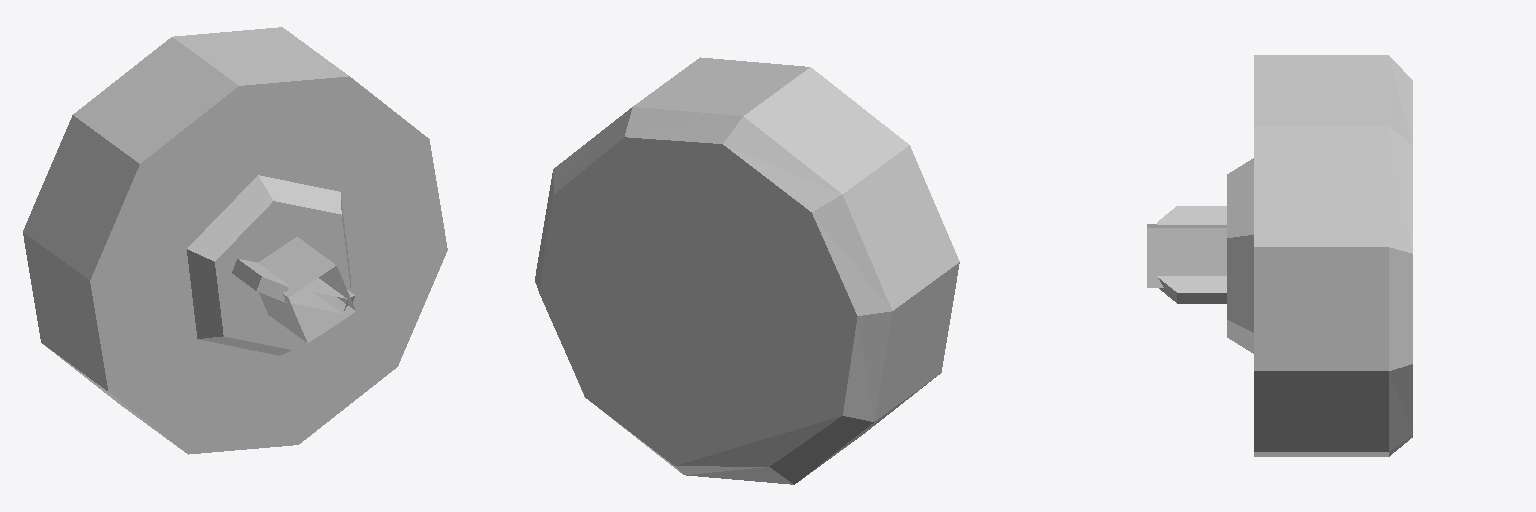
The model's file is wheel136.obj.
3 views of the same model, side by side, from view 1: azimuth 30°, elevation 25°; view 2: azimuth 150°, elevation 25°; view 3: azimuth 270°, elevation 25° (orthographic).
Visible parts, largest first — view 1: wheel_low_textures; view 2: wheel_low_textures; view 3: wheel_low_textures.
Boxes of the visible parts, <box> form: wheel_low_textures: <box>23,27,447,454</box>; wheel_low_textures: <box>535,57,959,484</box>; wheel_low_textures: <box>1147,55,1412,456</box>.
Bounding box in the file's own units: 1.54 × 1.54 × 0.9907.